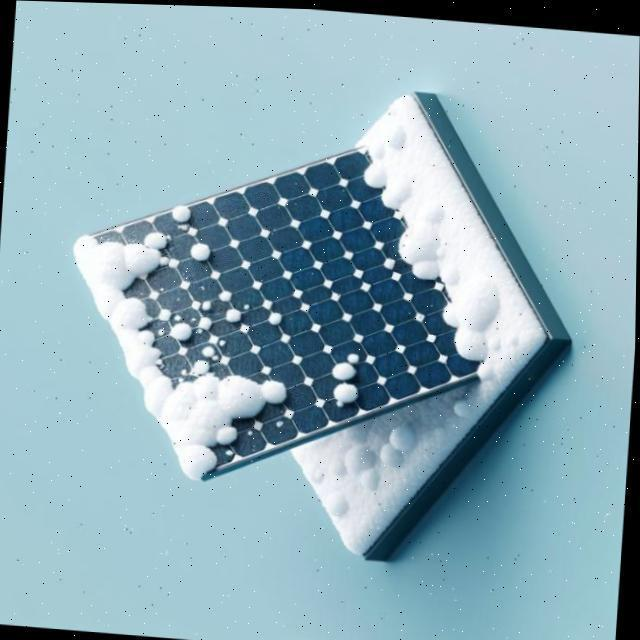Anomaly Solar Panel: (88, 123, 497, 483)
Snow: (54, 186, 304, 483), (350, 131, 495, 380), (190, 284, 246, 333), (147, 300, 198, 348), (328, 345, 368, 386), (166, 200, 202, 235), (333, 381, 360, 406), (189, 241, 209, 260)
